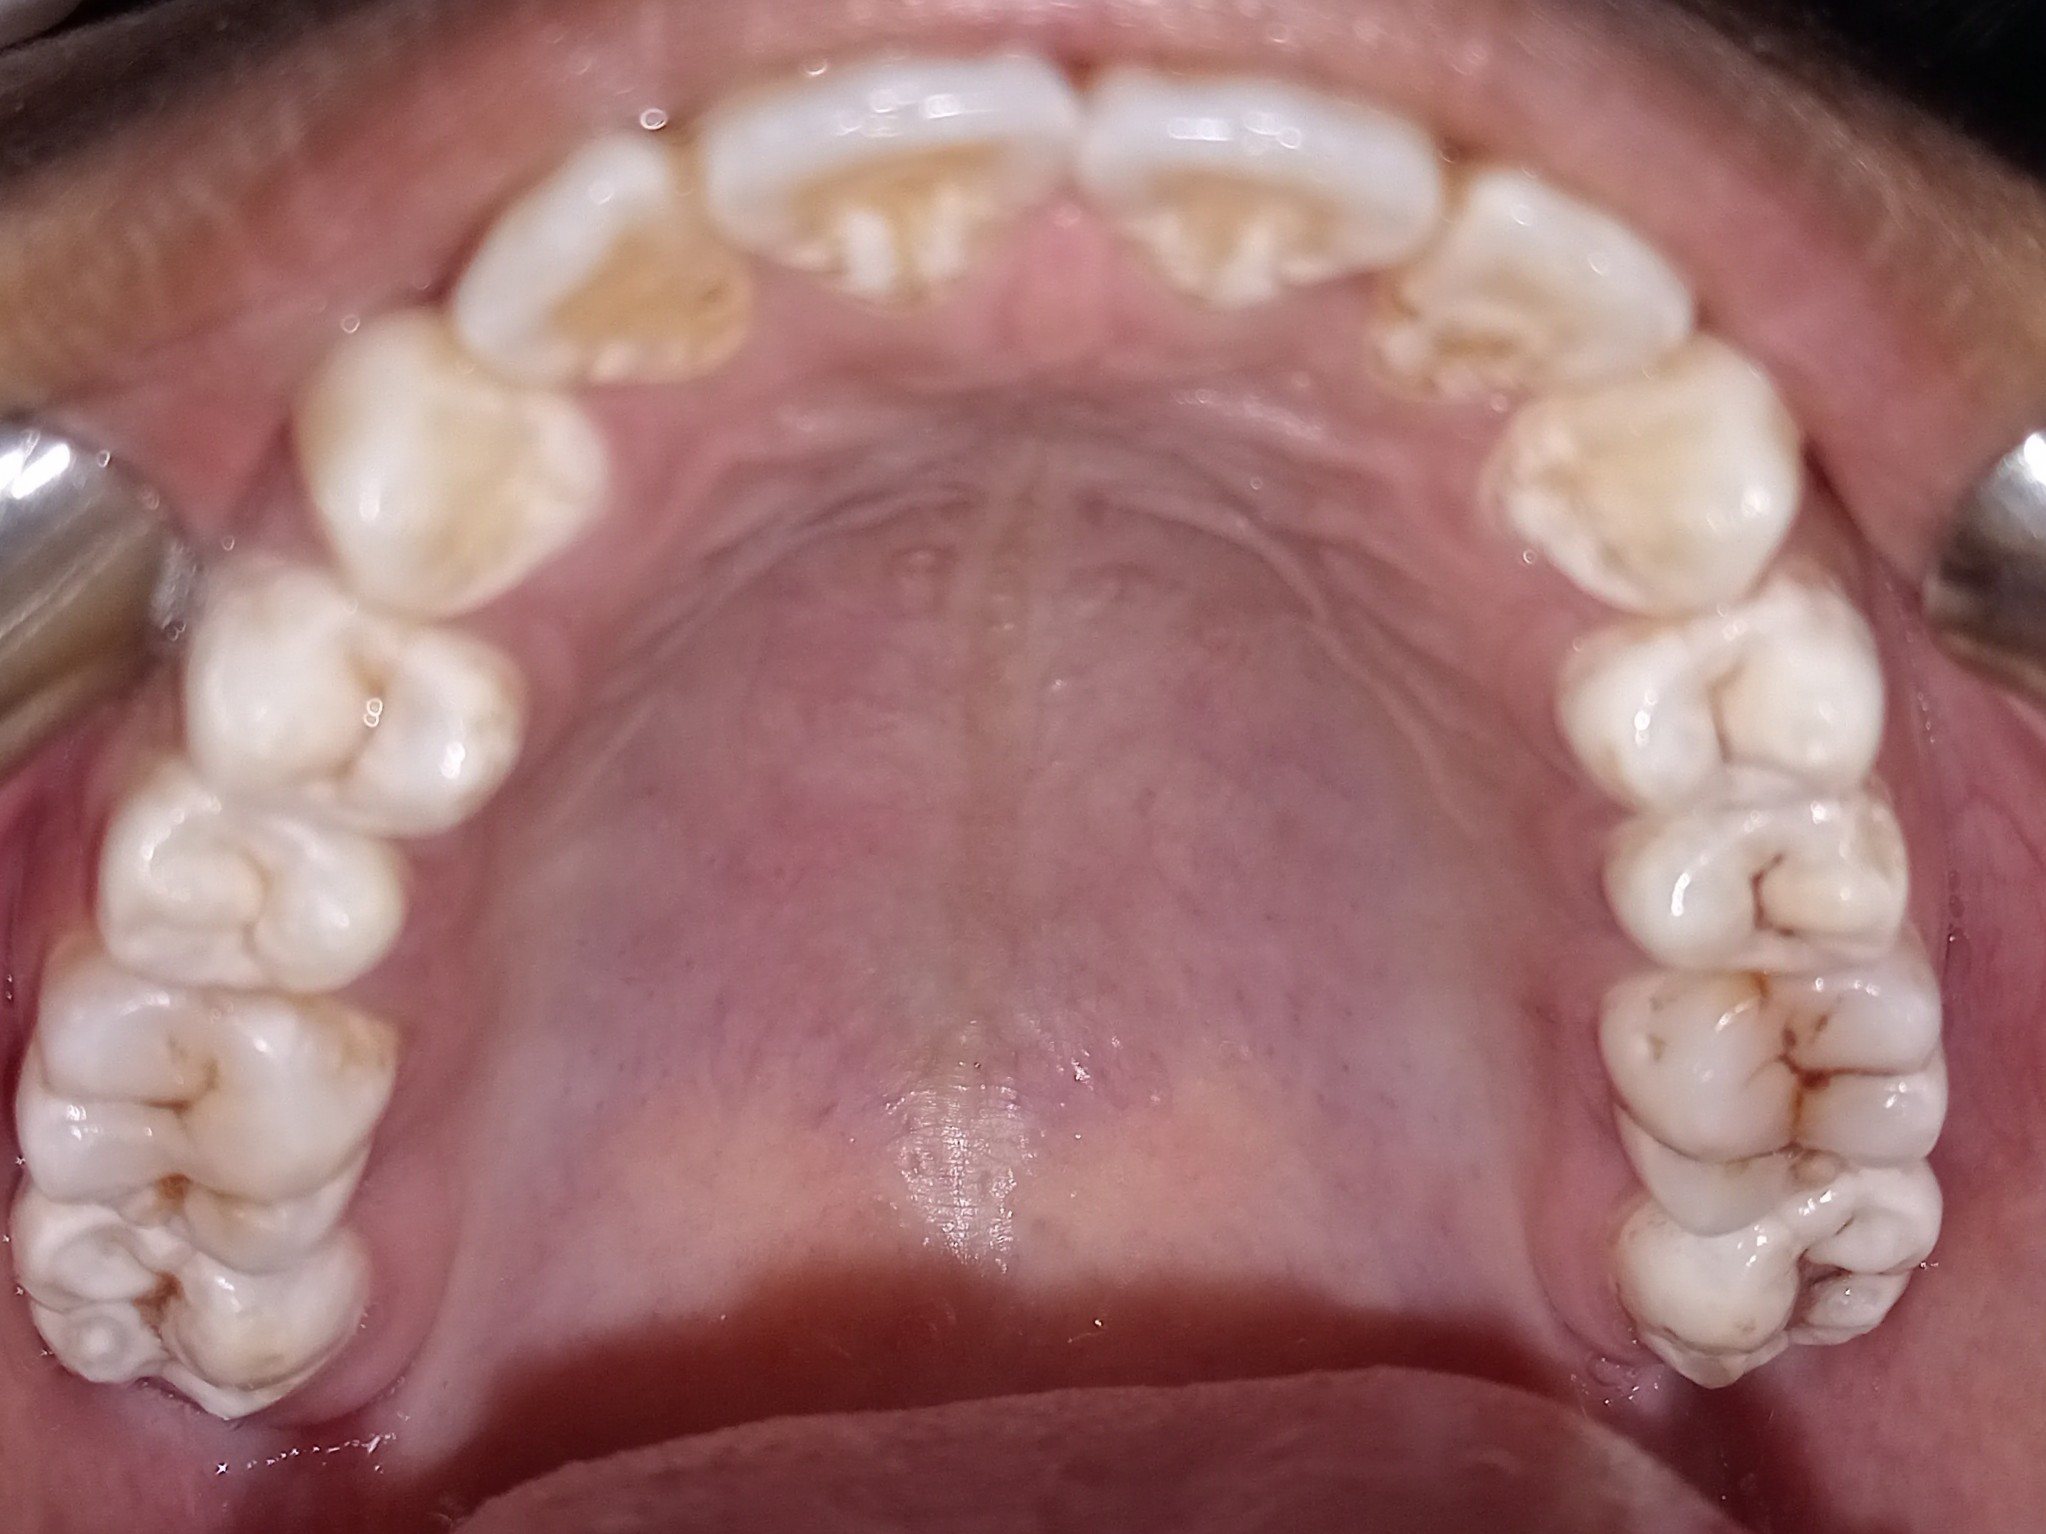D: (1, 938, 405, 1272), (1587, 949, 1961, 1221), (0, 1189, 400, 1424), (1598, 1189, 1972, 1393), (1594, 798, 1912, 972)
